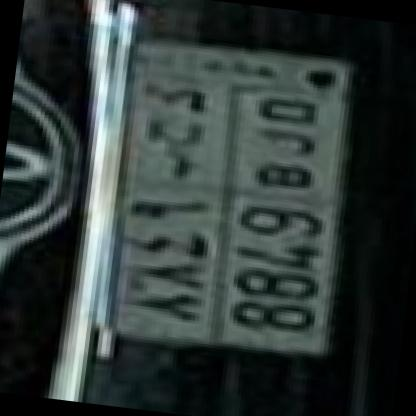english: (196, 76, 354, 366)
